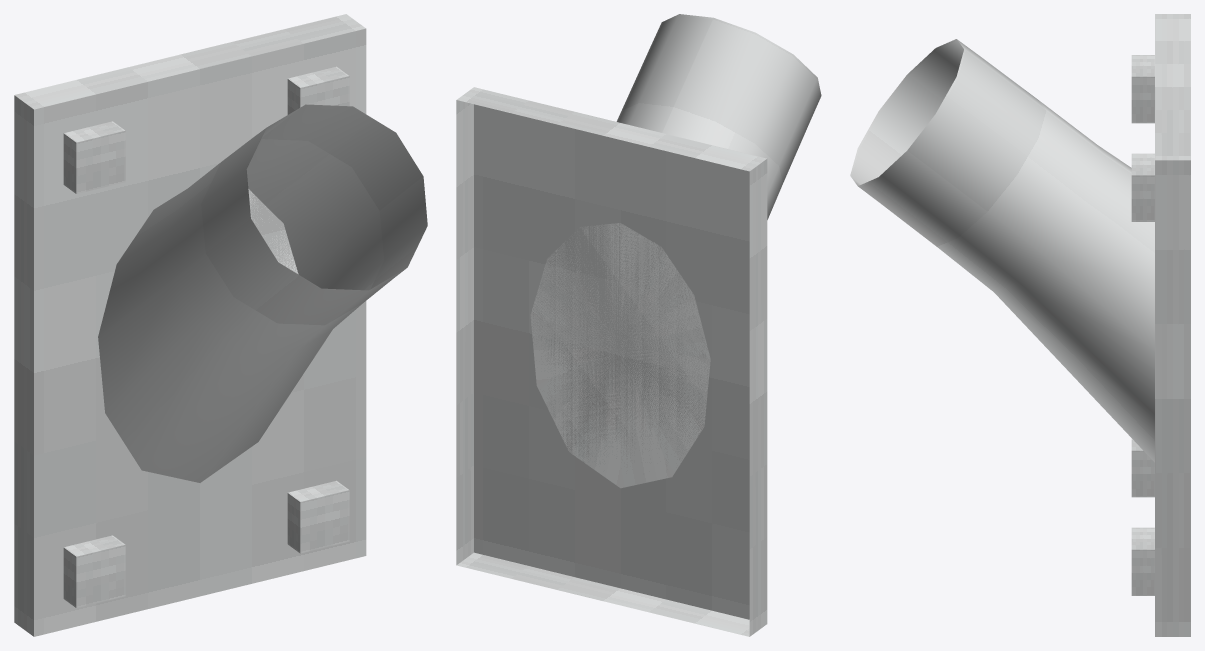
Rendered from luminairearm_caltrans8ftdouble_c5_wall.obj.
3 views of the same model, side by side, from view 1: azimuth 30°, elevation 25°; view 2: azimuth 150°, elevation 25°; view 3: azimuth 270°, elevation 25° (orthographic). The views are drawn at different scales.
Visible parts, largest first — view 1: luminairearm_caltrans8ftdouble_c5_wall; view 2: luminairearm_caltrans8ftdouble_c5_wall; view 3: luminairearm_caltrans8ftdouble_c5_wall.
Boxes of the visible parts, x1=… form: luminairearm_caltrans8ftdouble_c5_wall: x1=14, y1=14, x2=427, y2=636; luminairearm_caltrans8ftdouble_c5_wall: x1=456, y1=14, x2=821, y2=636; luminairearm_caltrans8ftdouble_c5_wall: x1=850, y1=14, x2=1190, y2=636.
Size of the model in its own units: 0.4219 by 0.6908 by 0.4147.
